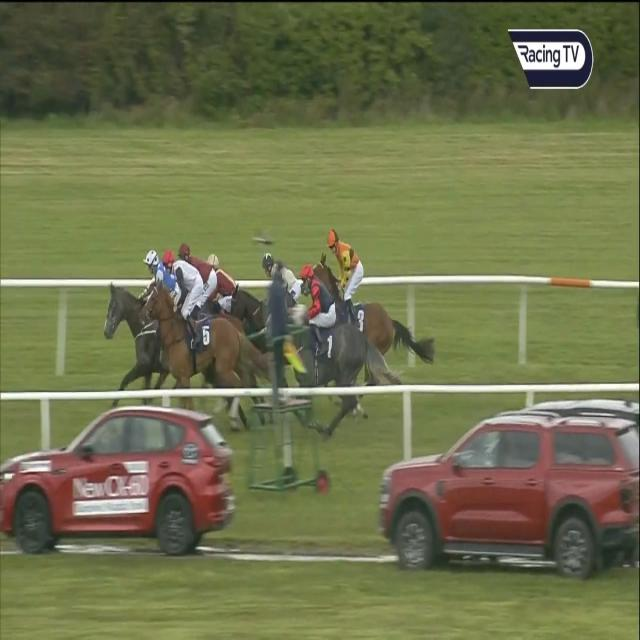horses-racing: (280, 262, 402, 442), (137, 248, 270, 401), (300, 228, 444, 369), (105, 248, 173, 391), (227, 241, 310, 330), (170, 241, 232, 318), (199, 249, 244, 314)
